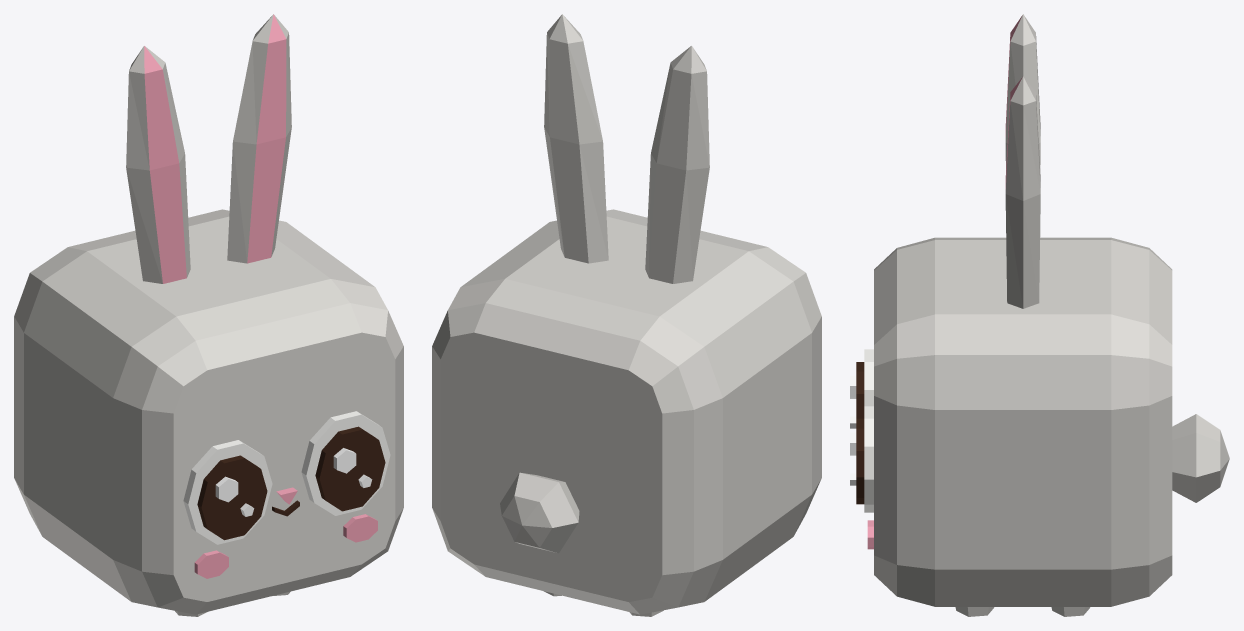
File: bunny-pet-v2.glb
3 renders of one model, left to right at view 1: azimuth 30°, elevation 25°; view 2: azimuth 150°, elevation 25°; view 3: azimuth 270°, elevation 25°, orthographic.
Visible parts, largest first — view 1: Body, Accent, Pupil, EyeWhite, EyeShine; view 2: Body; view 3: Body, EyeWhite, Pupil, Accent, EyeShine.
Boxes of the visible parts, x1,y1,x2,y2 form: Body: (14, 14, 403, 616); Accent: (144, 14, 377, 578); Pupil: (197, 426, 385, 540); EyeWhite: (183, 411, 390, 544); EyeShine: (215, 448, 372, 516); Body: (432, 14, 821, 616); Body: (874, 14, 1229, 616); EyeWhite: (864, 349, 873, 512); Pupil: (856, 362, 864, 504); Accent: (867, 15, 1022, 549); EyeShine: (850, 375, 856, 485).
Bounding box in the file's own units: 2 × 3.75 × 2.37.
